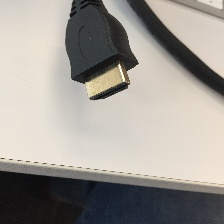hdmi_male: (43, 11, 151, 113)
